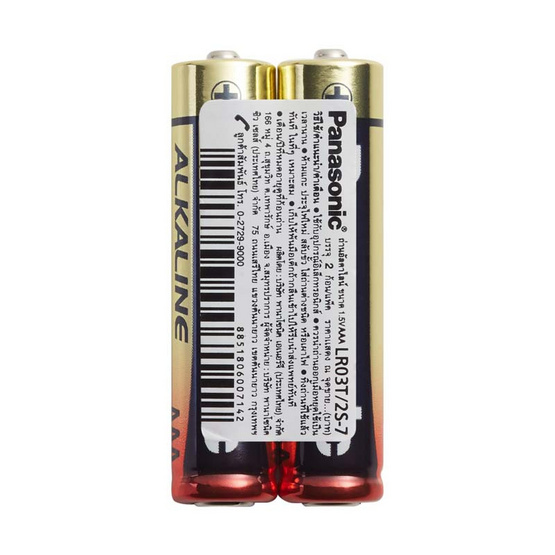Battery: (169, 50, 278, 509), (277, 50, 385, 508)
